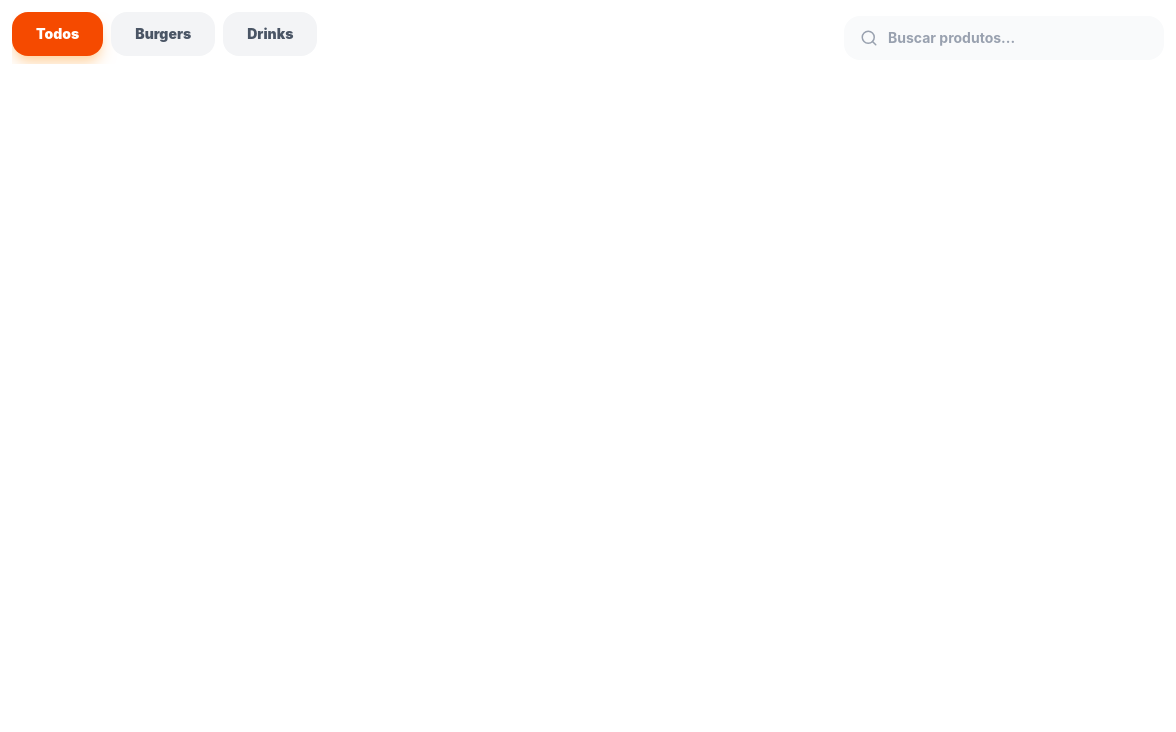
it: CategoryFilter Component › shows all products when "Todos" is clicked after filtering
Click the button "Burgers" at (163, 34), box [111,12,215,56]
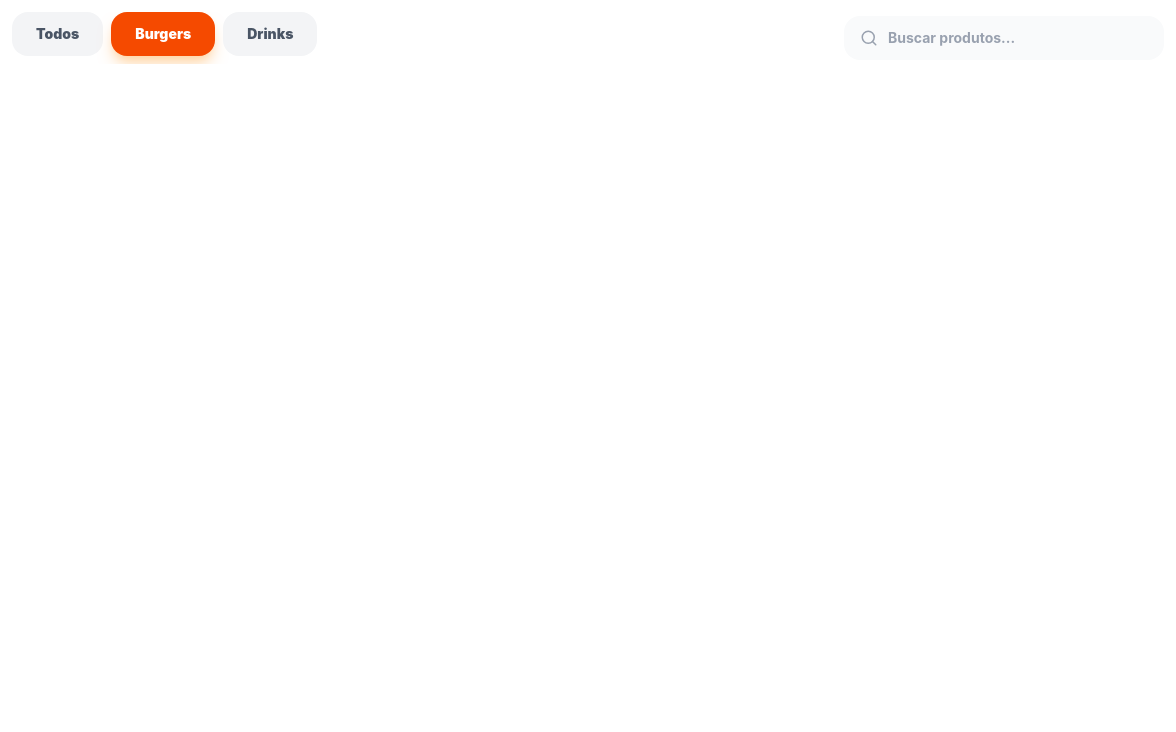
expect the text "Coke" is not shown: met
Click the button "Todos" at (58, 34), box [12,12,103,56]
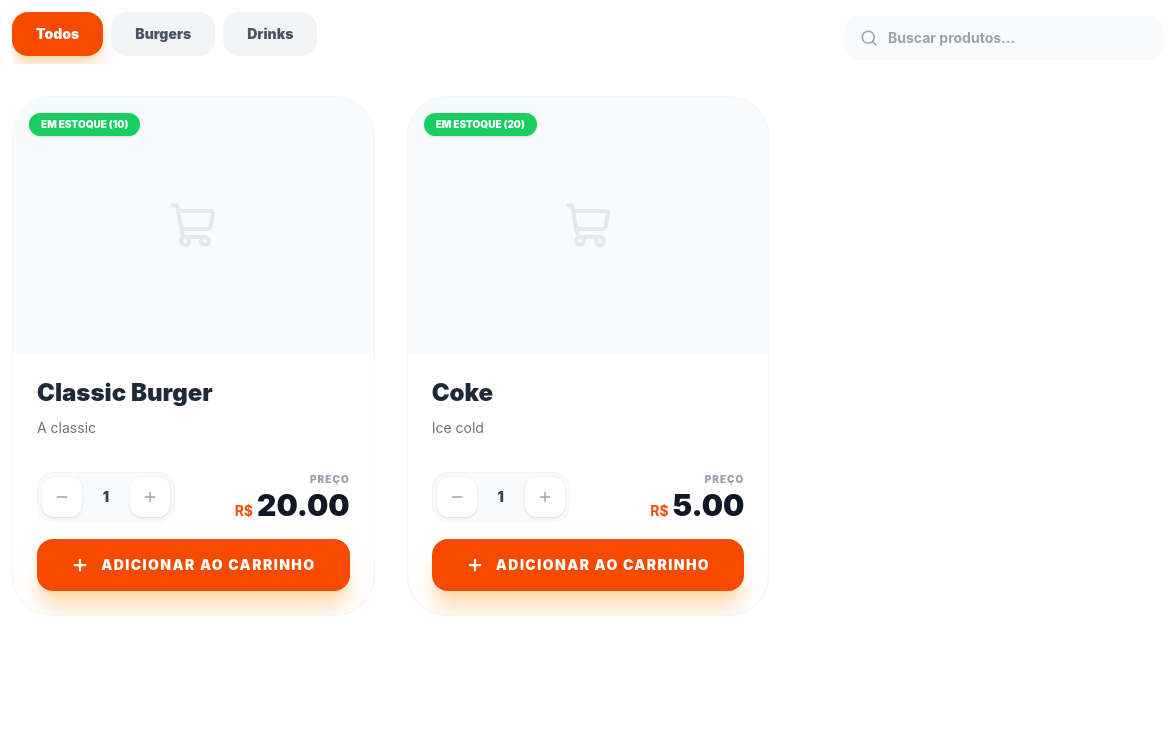
expect the heading "Classic Burger" is shown: met, box [37,378,213,407]
expect the heading "Coke" is shown: met, box [432,378,493,407]
